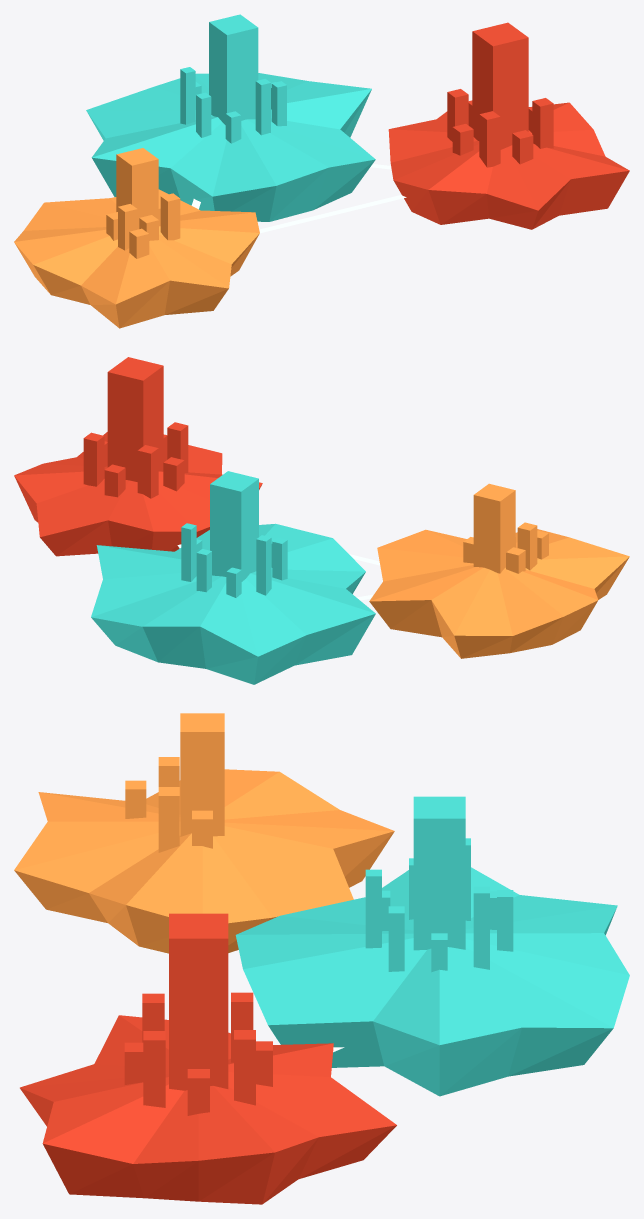
File: demo-world.glb
The picture shows the model from 3 angles, top to bottom: view 1: azimuth 30°, elevation 25°; view 2: azimuth 150°, elevation 25°; view 3: azimuth 270°, elevation 25°; orthographic projection. The views are drawn at different scales.
Parts seen in each view (by area): view 1: Demo World Map — replace with your GLB; view 2: Demo World Map — replace with your GLB; view 3: Demo World Map — replace with your GLB.
Boxes of the visible parts, <box> form: Demo World Map — replace with your GLB: <box>14,14,629,328</box>; Demo World Map — replace with your GLB: <box>14,357,629,684</box>; Demo World Map — replace with your GLB: <box>14,713,629,1204</box>.
Size of the model in its own units: 12.58 by 3.35 by 8.31.
